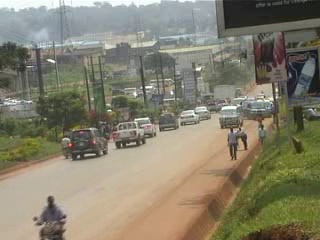Car: (68, 126, 110, 161), (131, 116, 159, 139), (155, 110, 181, 132), (180, 105, 202, 128), (195, 104, 211, 119)
Motorcycle: (32, 196, 70, 239), (60, 135, 70, 160)
